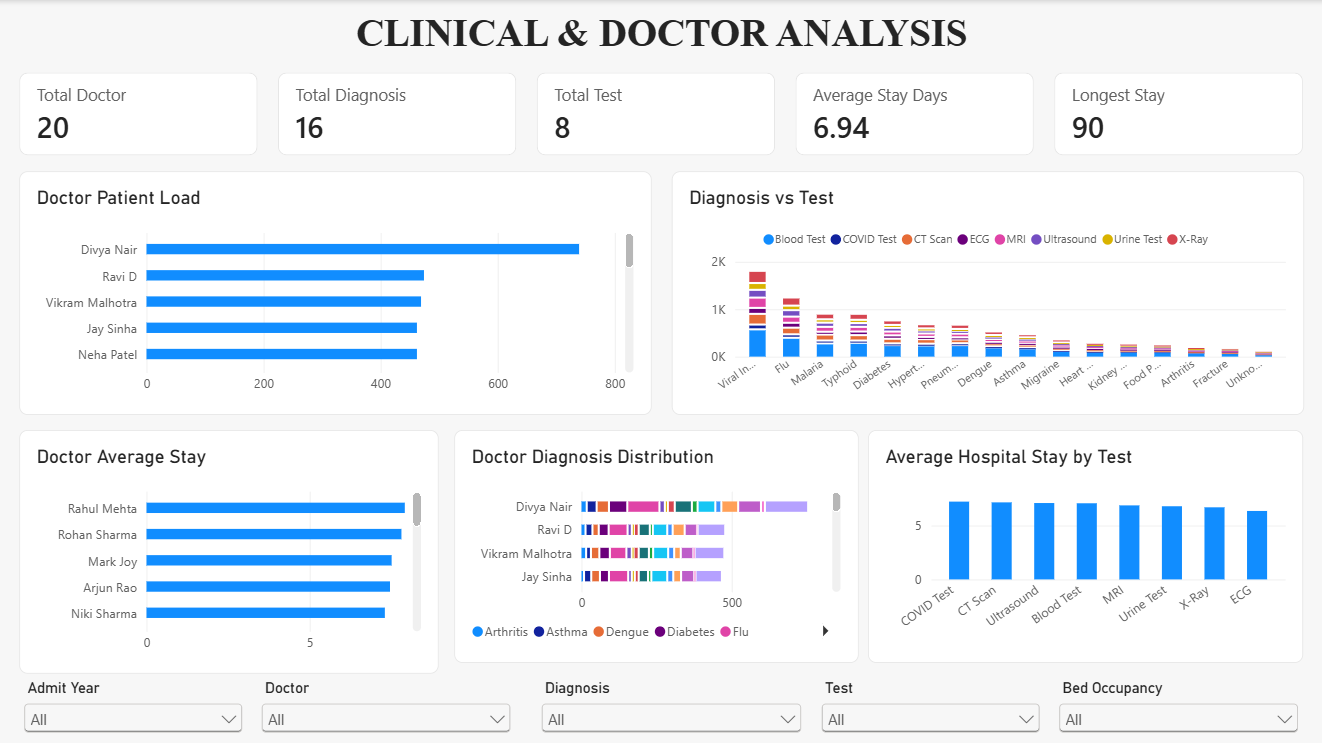

Layout of this report page (visuals, bound fields, positions):
{"tool":"powerbi","page":{"name":"Clinical & Doctor Analysis","canvas":[1280,720],"ordinal":1},"visuals":[{"type":"textbox","box":[20,10,1240,45],"z":0},{"type":"cardVisual","fields":{"Data":["Count(Healthcare_Cleaned.Doctor)"]},"box":[20,70,230,80],"z":1000},{"type":"cardVisual","fields":{"Data":["Count(Healthcare_Cleaned.Diagnosis)"]},"box":[270,70,230,80],"z":2000},{"type":"cardVisual","fields":{"Data":["Count(Healthcare_Cleaned.Test)"]},"box":[520,70,230,80],"z":3000},{"type":"cardVisual","fields":{"Data":["Avg(Healthcare_Cleaned.Stay_Days)"]},"box":[770,70,230,80],"z":4000},{"type":"cardVisual","fields":{"Data":["Max(Healthcare_Cleaned.Stay_Days)"]},"box":[1020,70,240,80],"z":5000},{"type":"clusteredBarChart","title":"Doctor Patient Load","fields":{"Category":["Healthcare_Cleaned.Doctor"],"Y":["Count(Healthcare_Cleaned.Patient_ID)"]},"box":[20,165,610,235],"z":6000},{"type":"columnChart","title":"Diagnosis vs Test","fields":{"Category":["Healthcare_Cleaned.Diagnosis"],"Series":["Healthcare_Cleaned.Test"],"Y":["Count(Healthcare_Cleaned.Patient_ID)"]},"box":[650,165,610,235],"z":7000},{"type":"clusteredBarChart","title":"Doctor Average Stay","fields":{"Category":["Healthcare_Cleaned.Doctor"],"Y":["Avg(Healthcare_Cleaned.Stay_Days)"]},"box":[20,415,405,235],"z":8000},{"type":"barChart","title":"Doctor Diagnosis Distribution","fields":{"Category":["Healthcare_Cleaned.Doctor"],"Series":["Healthcare_Cleaned.Diagnosis"],"Y":["Count(Healthcare_Cleaned.Patient_ID)"]},"box":[440,415,390,225],"z":9000},{"type":"clusteredColumnChart","title":"Average Hospital Stay by Test","fields":{"Category":["Healthcare_Cleaned.Test"],"Y":["Avg(Healthcare_Cleaned.Stay_Days)"]},"box":[840,415,420,225],"z":10000},{"type":"slicer","fields":{"Values":["Healthcare_Cleaned.Admit_Year"]},"box":[20,655,220,60],"z":11000},{"type":"slicer","fields":{"Values":["Healthcare_Cleaned.Doctor"]},"box":[250,655,250,60],"z":12000},{"type":"slicer","fields":{"Values":["Healthcare_Cleaned.Diagnosis"]},"box":[520,655,260,60],"z":13000},{"type":"slicer","fields":{"Values":["Healthcare_Cleaned.Test"]},"box":[790,655,220,60],"z":14000},{"type":"slicer","fields":{"Values":["Healthcare_Cleaned.Bed_Occupancy"]},"box":[1020,655,240,60],"z":15000}]}

Visuals, with their boxes in screenshot pixels (x1, y1, x2, y2), scaled from the page's 1280x720 canvas onto the 1322x743 screenshot:
textbox: 21, 10, 1301, 57
cardVisual - Count(Healthcare_Cleaned.Doctor): 21, 72, 258, 155
cardVisual - Count(Healthcare_Cleaned.Diagnosis): 279, 72, 516, 155
cardVisual - Count(Healthcare_Cleaned.Test): 537, 72, 775, 155
cardVisual - Avg(Healthcare_Cleaned.Stay_Days): 795, 72, 1033, 155
cardVisual - Max(Healthcare_Cleaned.Stay_Days): 1053, 72, 1301, 155
"Doctor Patient Load" clusteredBarChart: 21, 170, 651, 413
"Diagnosis vs Test" columnChart: 671, 170, 1301, 413
"Doctor Average Stay" clusteredBarChart: 21, 428, 439, 671
"Doctor Diagnosis Distribution" barChart: 454, 428, 857, 660
"Average Hospital Stay by Test" clusteredColumnChart: 868, 428, 1301, 660
slicer - Healthcare_Cleaned.Admit_Year: 21, 676, 248, 738
slicer - Healthcare_Cleaned.Doctor: 258, 676, 516, 738
slicer - Healthcare_Cleaned.Diagnosis: 537, 676, 806, 738
slicer - Healthcare_Cleaned.Test: 816, 676, 1043, 738
slicer - Healthcare_Cleaned.Bed_Occupancy: 1053, 676, 1301, 738
